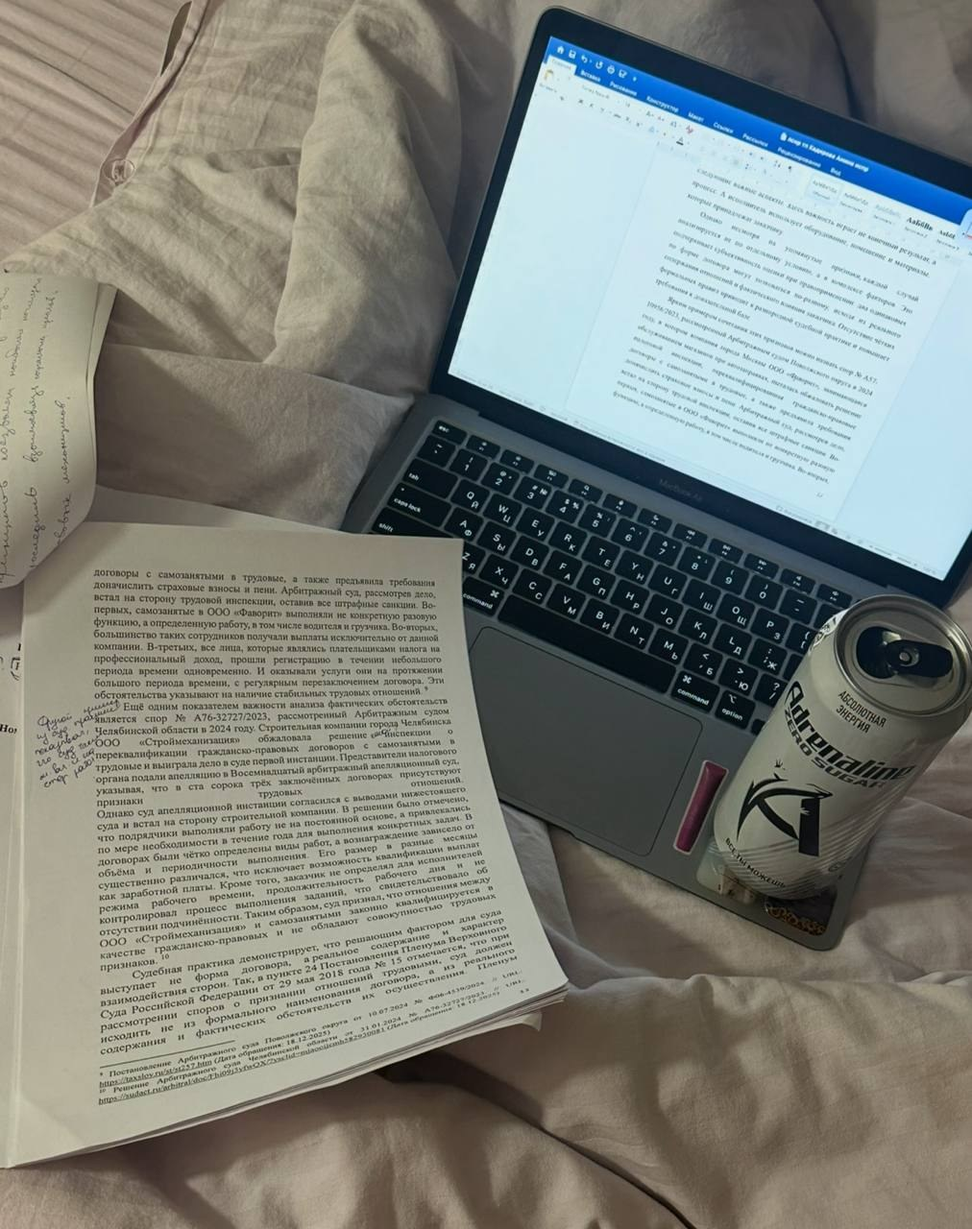laptop: (337, 5, 971, 952)
